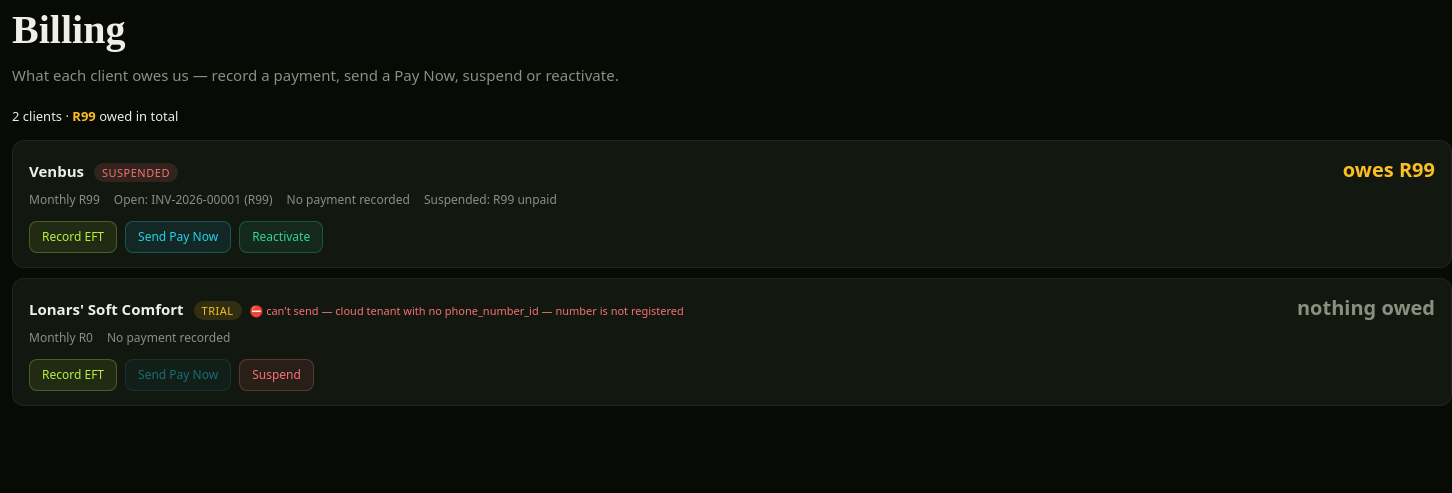
it: BillingPanel › Record EFT › will not submit without the bank reference
The image size is (1452, 493).
Check: the text "Venbus" is shown, box [29,161,84,181]
Click the button "Record EFT" below "Open:".
click(73, 237)  # box [29,221,117,253]
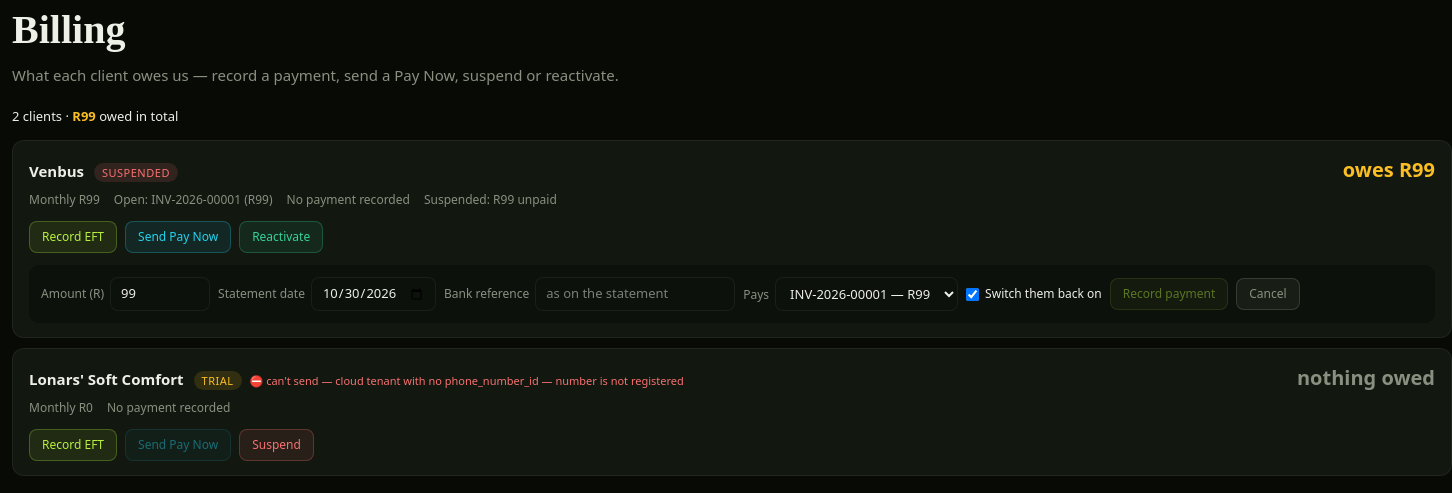
Check: the button "Record payment" is disabled, box [1110,278,1228,310]
